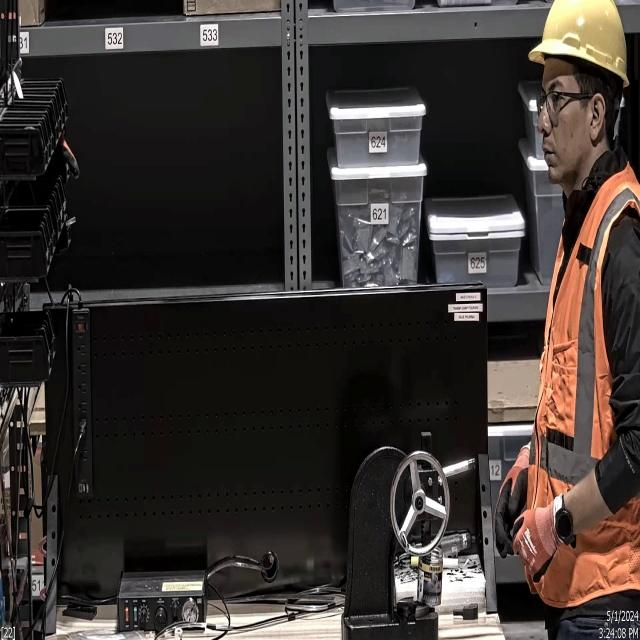gloves: (509, 491, 569, 598), (492, 443, 534, 557)
